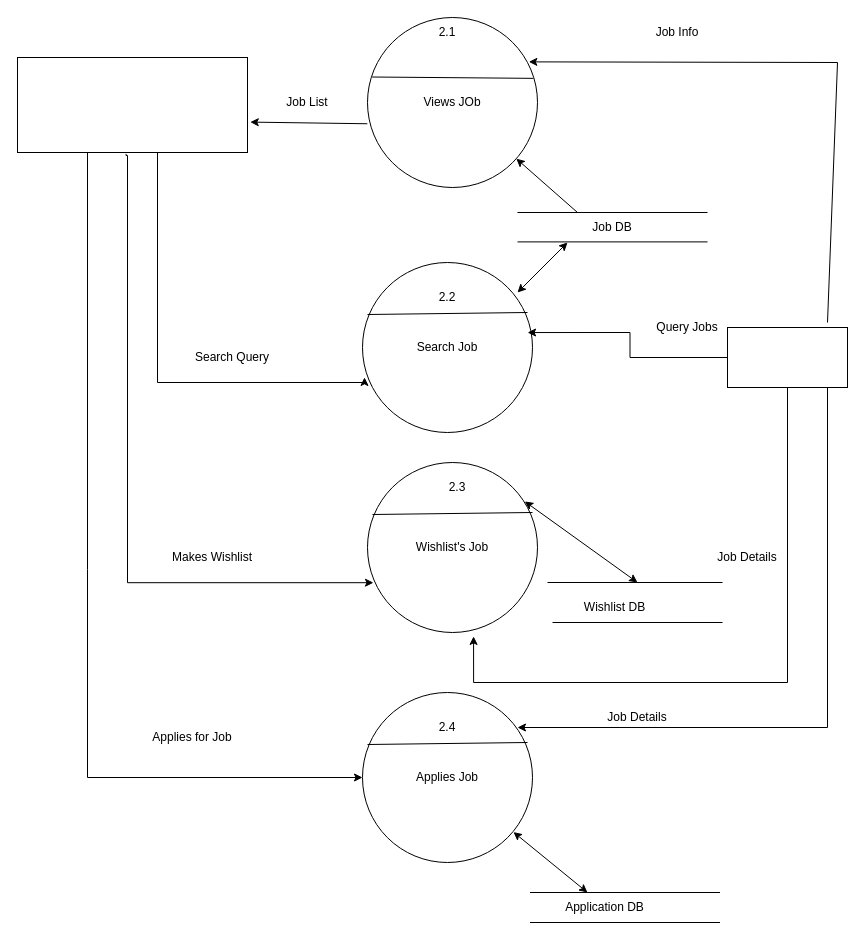
The diagram is 865 pixels wide and 941 high, and some of its shapes have lost their labels. Each missing label, with the centre of its shape:
Employee: [132,104]
Job: [787,357]
